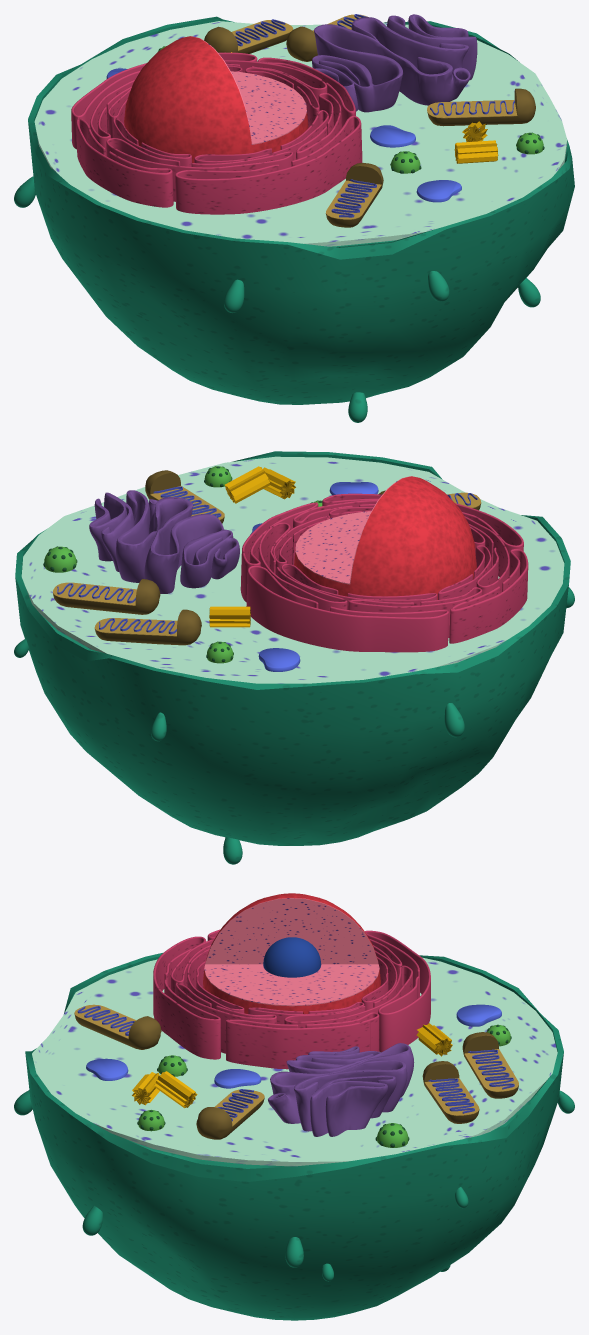
File: CelulaAnimalPartes.glb
The picture shows the model from 3 angles, top to bottom: view 1: azimuth 30°, elevation 25°; view 2: azimuth 150°, elevation 25°; view 3: azimuth 270°, elevation 25°; orthographic projection. The views are drawn at different scales.
Parts seen in each view (by area): view 1: membrana_plasmatica, citoplasma, reticulo_endoplasmatico, nucleo, AparatoGolgi, mitocondira, membrana_nucleaar, vacuolas, centriolo, lisosoma; view 2: membrana_plasmatica, citoplasma, reticulo_endoplasmatico, nucleo, AparatoGolgi, mitocondira, membrana_nucleaar, centriolo, lisosoma, vacuolas; view 3: membrana_plasmatica, citoplasma, reticulo_endoplasmatico, membrana_nucleaar, AparatoGolgi, mitocondira, vacuolas, centriolo, nucleo, lisosoma, nucleolo.
Part boxes in pixels (x1,y1,x2,y2): membrana_plasmatica: [14, 16, 574, 422]; citoplasma: [34, 21, 567, 246]; reticulo_endoplasmatico: [71, 52, 362, 214]; nucleo: [124, 36, 308, 162]; AparatoGolgi: [312, 14, 477, 112]; mitocondira: [204, 14, 535, 227]; membrana_nucleaar: [190, 36, 306, 144]; vacuolas: [106, 68, 461, 202]; centriolo: [231, 52, 498, 163]; lisosoma: [158, 46, 544, 173]; membrana_plasmatica: [14, 451, 574, 864]; citoplasma: [21, 456, 564, 683]; reticulo_endoplasmatico: [240, 493, 528, 652]; nucleo: [294, 476, 476, 599]; AparatoGolgi: [89, 490, 239, 593]; mitocondira: [53, 470, 481, 645]; membrana_nucleaar: [295, 476, 410, 584]; centriolo: [209, 466, 295, 627]; lisosoma: [43, 466, 322, 663]; vacuolas: [250, 482, 378, 671]; membrana_plasmatica: [14, 952, 574, 1320]; citoplasma: [32, 957, 557, 1166]; reticulo_endoplasmatico: [153, 929, 430, 1069]; membrana_nucleaar: [204, 898, 379, 1006]; AparatoGolgi: [268, 1043, 414, 1136]; mitocondira: [74, 1004, 518, 1139]; vacuolas: [86, 1004, 501, 1088]; centriolo: [132, 1023, 452, 1108]; nucleo: [203, 893, 380, 1013]; lisosoma: [137, 1024, 511, 1147]; nucleolo: [263, 937, 321, 977].
Size of the model in its own units: 2.7 by 1.93 by 2.81.
16 materials, 5 textured.
